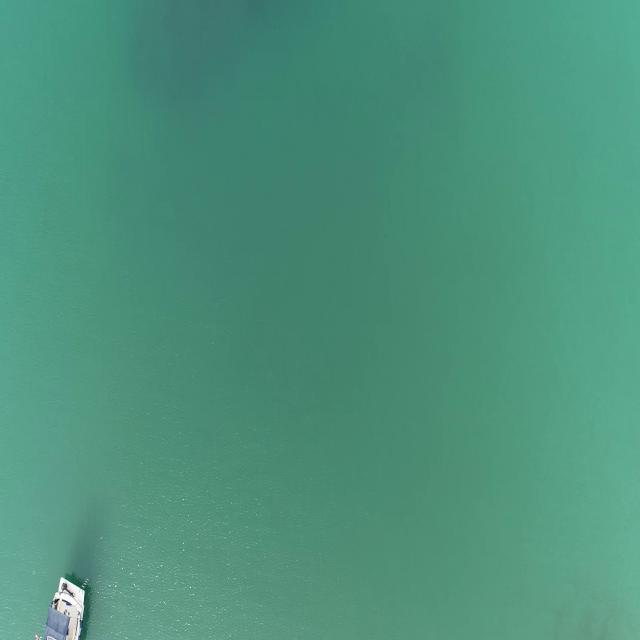boat: (36, 575, 94, 640)
